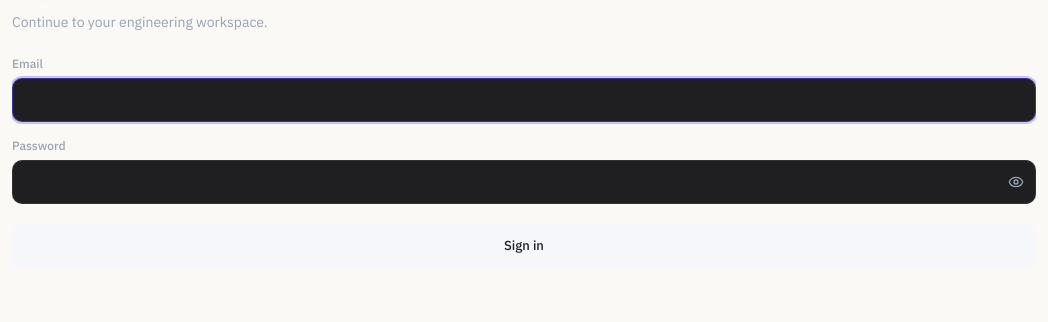
Test: SignInForm › renders a server-returned credential error without disclosing account existence
Type "engineer@example.com" into the field labelled "Email" at [524, 100], box [12, 78, 1036, 122]
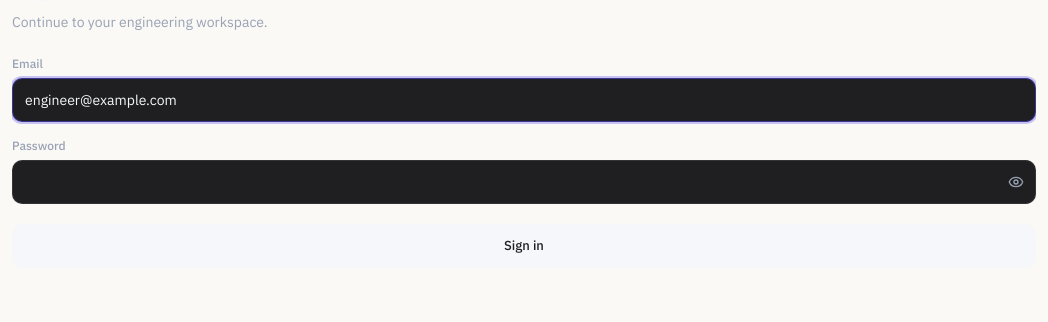
Type "correct horse battery" into the password field labelled "Password" at [524, 182], box [12, 160, 1036, 204]
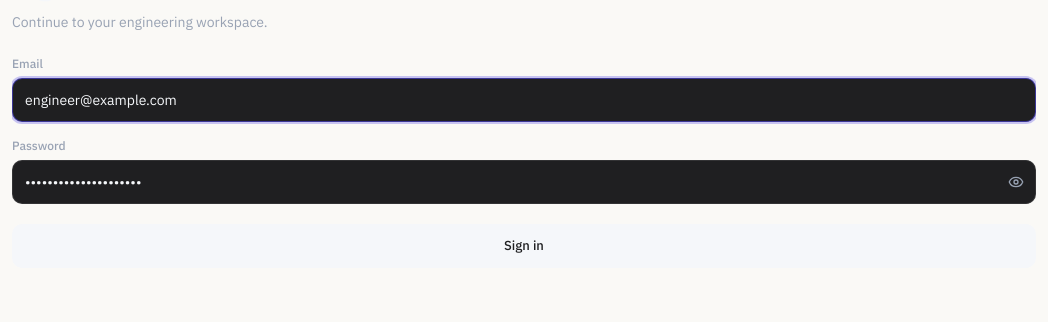
Click the button "Sign in" at [524, 246], box [12, 224, 1036, 268]
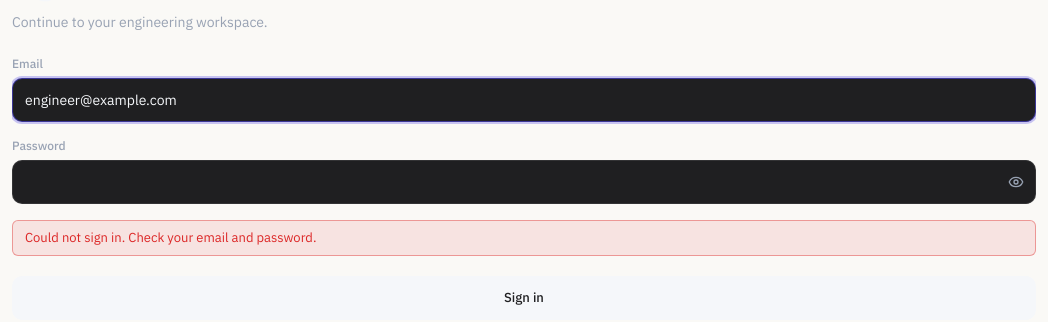
Expected: the message reads "Could not sign in. Check your email and password.", [25, 229, 316, 246]
